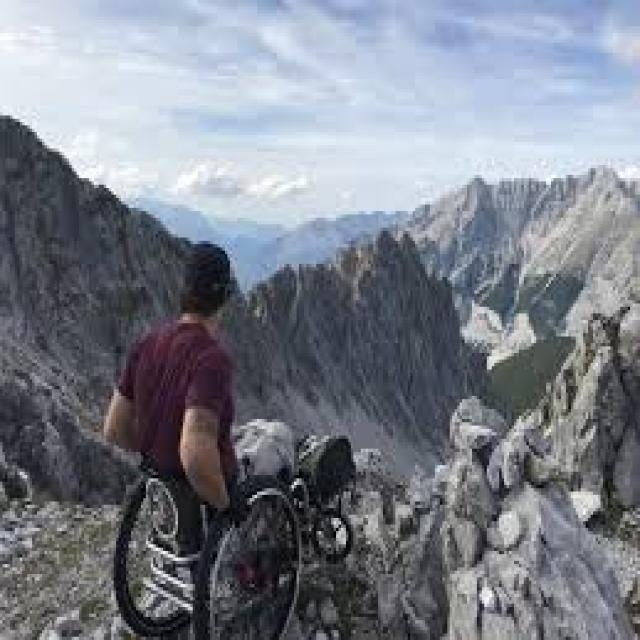wheelchairs: (99, 416, 348, 636)
